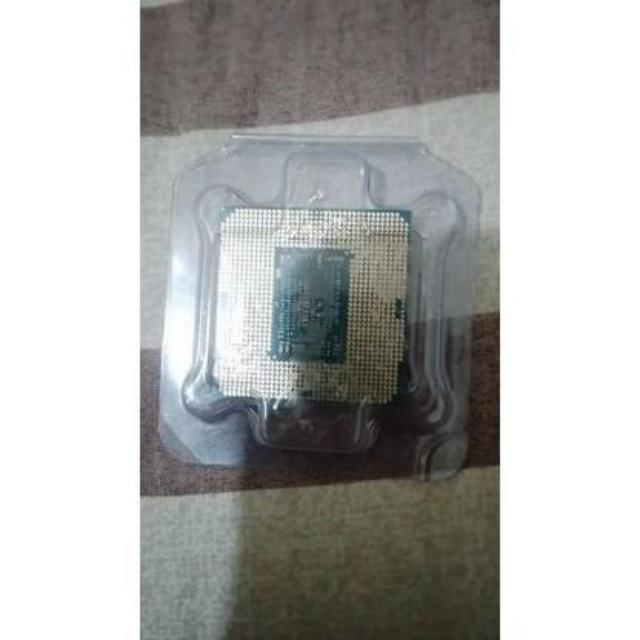CPU: (216, 204, 407, 410)
